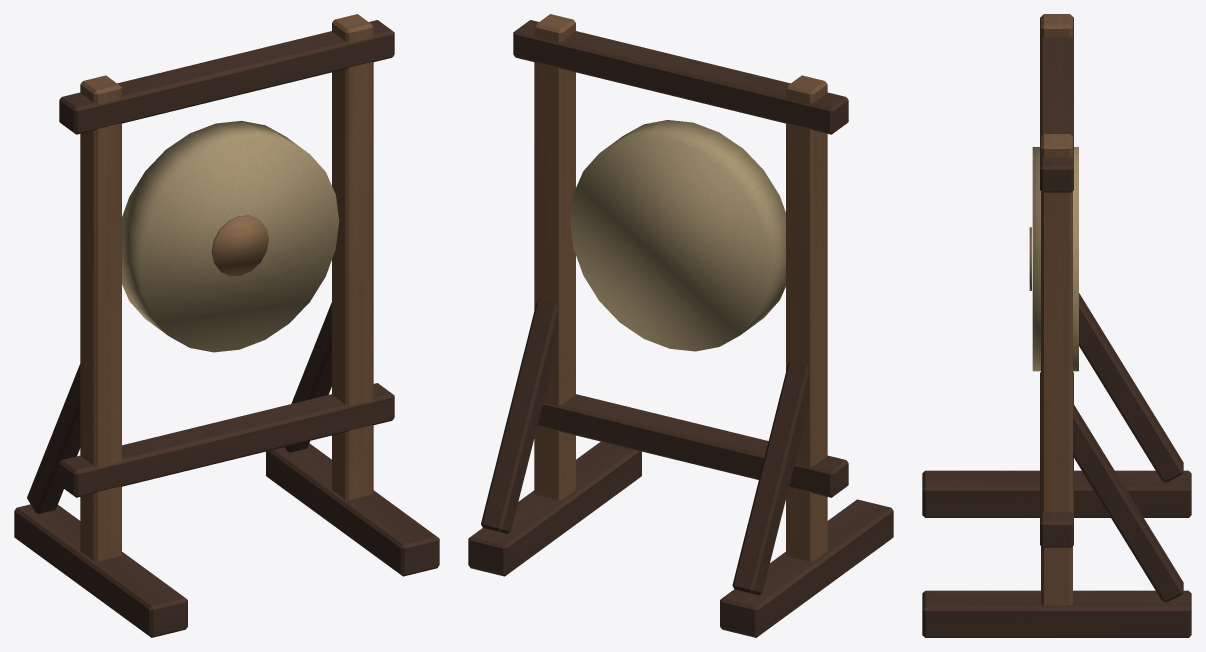
File: thrust_target.glb
3 renders of one model, left to right at view 1: azimuth 30°, elevation 25°; view 2: azimuth 150°, elevation 25°; view 3: azimuth 270°, elevation 25°, orthographic. The views are drawn at different scales.
Parts seen in each view (by area): view 1: Training_Timber, Training_Rope, Training_CarvedWood, Training_PracticeWood; view 2: Training_Timber, Training_Rope, Training_CarvedWood; view 3: Training_Timber, Training_CarvedWood, Training_Rope.
Boxes of the visible parts, <box> form: Training_Timber: <box>14,20,439,637</box>; Training_Rope: <box>122,120,339,352</box>; Training_CarvedWood: <box>80,14,373,561</box>; Training_PracticeWood: <box>211,215,268,276</box>; Training_Timber: <box>468,20,893,637</box>; Training_Rope: <box>570,120,785,351</box>; Training_CarvedWood: <box>534,14,827,561</box>; Training_Timber: <box>922,17,1191,637</box>; Training_CarvedWood: <box>1041,14,1072,605</box>; Training_Rope: <box>1032,147,1078,371</box>.
Size of the model in its own units: 1.48 by 2.21 by 1.1.
4 materials, 4 textured.
